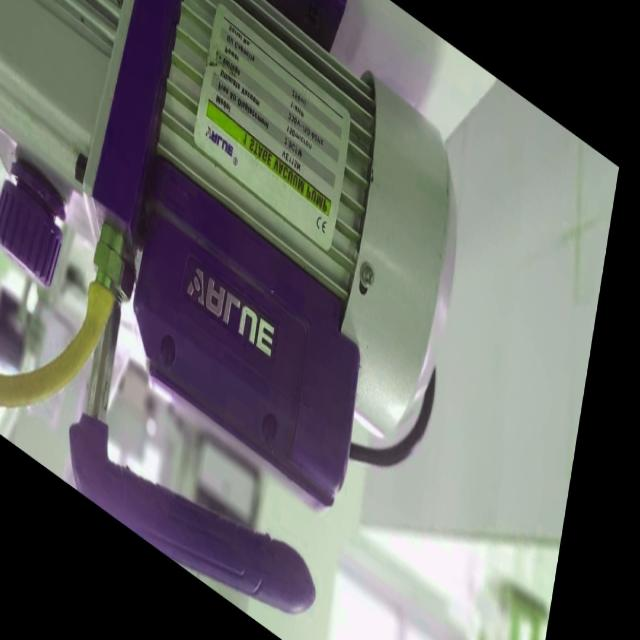Vacuum Pump: (0, 0, 490, 640)
